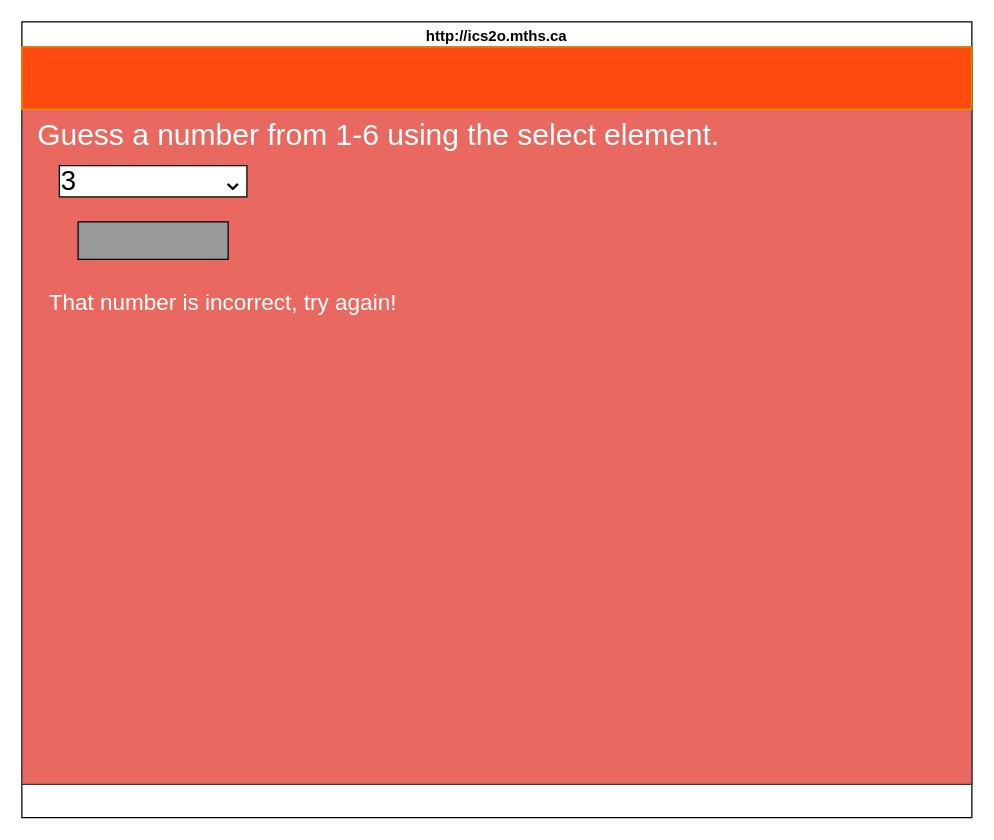
The diagram is 994 pixels wide and 840 high, and some of its shapes have lost their labels. Each missing label, with the box of its shape:
Guess: (77, 221, 228, 259)
Guess the Number: (21, 46, 972, 109)
